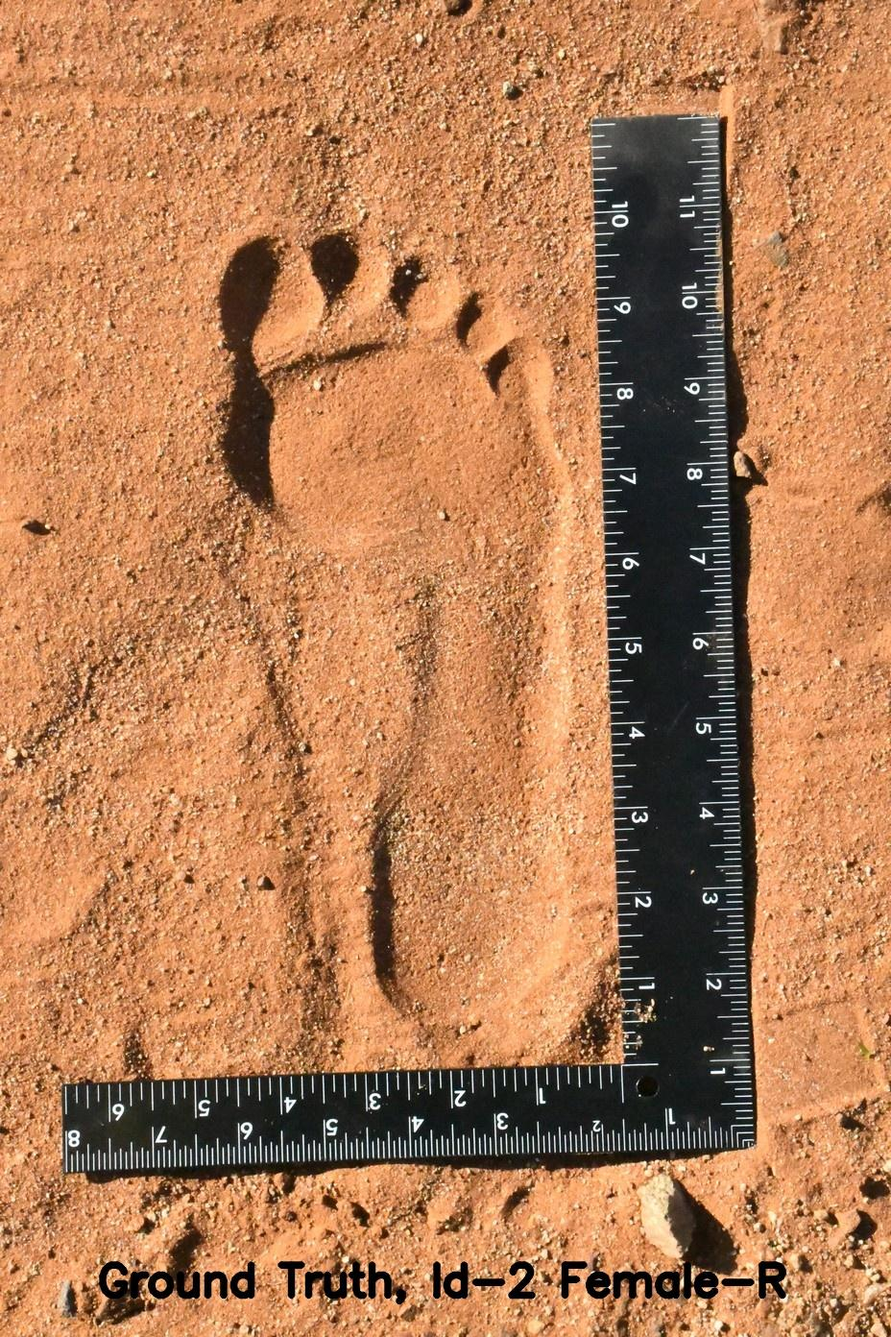human_footprint: (180, 180, 589, 1046)
